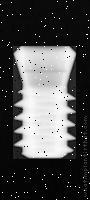Blue Sky Bio: (13, 46, 76, 159)
